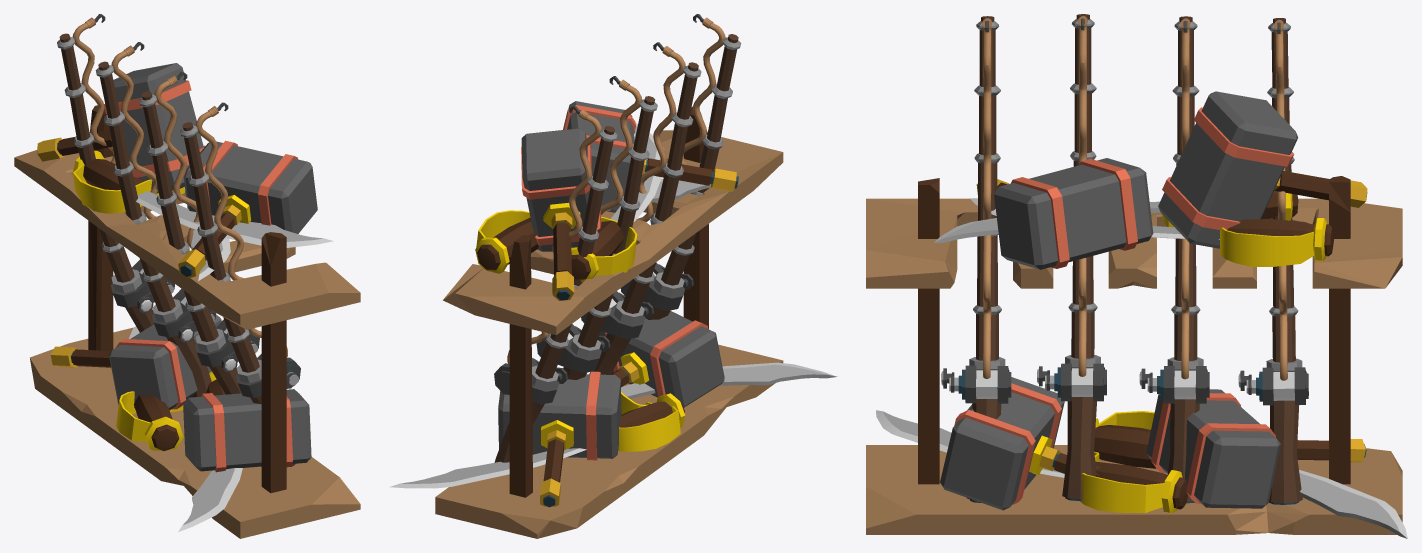
Rendered from WoodHolder.fbx.
3 renders of one model, left to right at view 1: azimuth 30°, elevation 25°; view 2: azimuth 150°, elevation 25°; view 3: azimuth 270°, elevation 25°, orthographic. The views are drawn at different scales.
Parts seen in each view (by area): view 1: WoodHolder, Hammer.002, Hammer, FishingRod.001, FishingRod.002, FishingRod, Hammer.001, FishingRod.003, Hammer.003, Sword.001, Sword.003, Sword.002 (+1 smaller); view 2: WoodHolder, Hammer.003, Hammer.001, FishingRod.002, Hammer, FishingRod.003, FishingRod.001, FishingRod, Sword.003, Hammer.002, Sword.001, Sword (+1 smaller); view 3: WoodHolder, Hammer.003, Hammer.002, Hammer.001, Hammer, FishingRod.002, FishingRod, FishingRod.003, FishingRod.001, Sword.003, Sword.002, Sword (+1 smaller).
Boxes of the visible parts, <box> form: WoodHolder: <box>14,105,360,538</box>; Hammer.002: <box>178,140,317,278</box>; Hammer: <box>183,389,311,472</box>; FishingRod.001: <box>95,42,216,397</box>; FishingRod.002: <box>139,71,259,394</box>; FishingRod: <box>180,102,300,465</box>; Hammer.001: <box>50,314,221,410</box>; FishingRod.003: <box>57,14,174,332</box>; Hammer.003: <box>37,63,205,193</box>; Sword.001: <box>72,150,333,247</box>; Sword.003: <box>116,326,183,450</box>; Sword.002: <box>178,372,242,531</box>; WoodHolder: <box>435,106,783,538</box>; Hammer.003: <box>521,128,601,300</box>; Hammer.001: <box>498,371,621,507</box>; FishingRod.002: <box>581,42,701,374</box>; Hammer: <box>599,311,724,407</box>; FishingRod.003: <box>494,106,617,462</box>; FishingRod.001: <box>536,76,657,379</box>; FishingRod: <box>620,14,741,319</box>; Sword.003: <box>389,393,685,488</box>; Hammer.002: <box>563,101,738,212</box>; Sword.001: <box>571,123,664,282</box>; Sword: <box>475,178,710,273</box>; WoodHolder: <box>866,176,1402,534</box>; Hammer.003: <box>1158,91,1367,248</box>; Hammer.002: <box>976,158,1153,269</box>; Hammer.001: <box>1146,389,1366,508</box>; Hammer: <box>940,377,1101,510</box>; FishingRod.002: <box>1037,14,1106,501</box>; FishingRod: <box>941,16,1011,502</box>; FishingRod.003: <box>1238,18,1308,504</box>; FishingRod.001: <box>1139,16,1209,503</box>; Sword.003: <box>1094,411,1407,538</box>; Sword.002: <box>876,410,1187,513</box>; Sword: <box>970,198,1333,266</box>.
Bounding box in the file's own units: 170 × 287 × 303.
